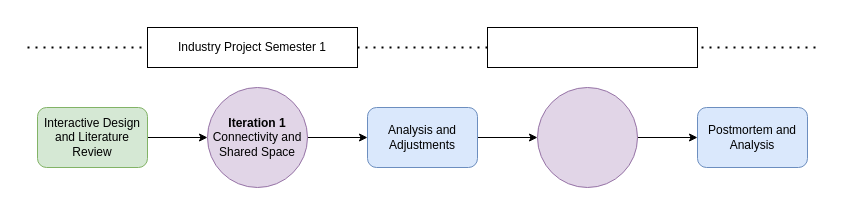
Image size: 844x214. Some labels were removed from this diagram. The shapes that lost their labels are listed below. From the top down, each one's box as (x1, y1, x2, y2) in pixels, then its label:
(486, 26, 698, 68): Industry Project Semester 2
(536, 86, 638, 188): Iteration 2 Communication and Interactions
